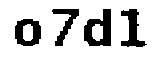1: (120, 6, 148, 50)
7: (49, 6, 81, 53)
d: (82, 8, 114, 50)
o: (12, 17, 44, 54)
